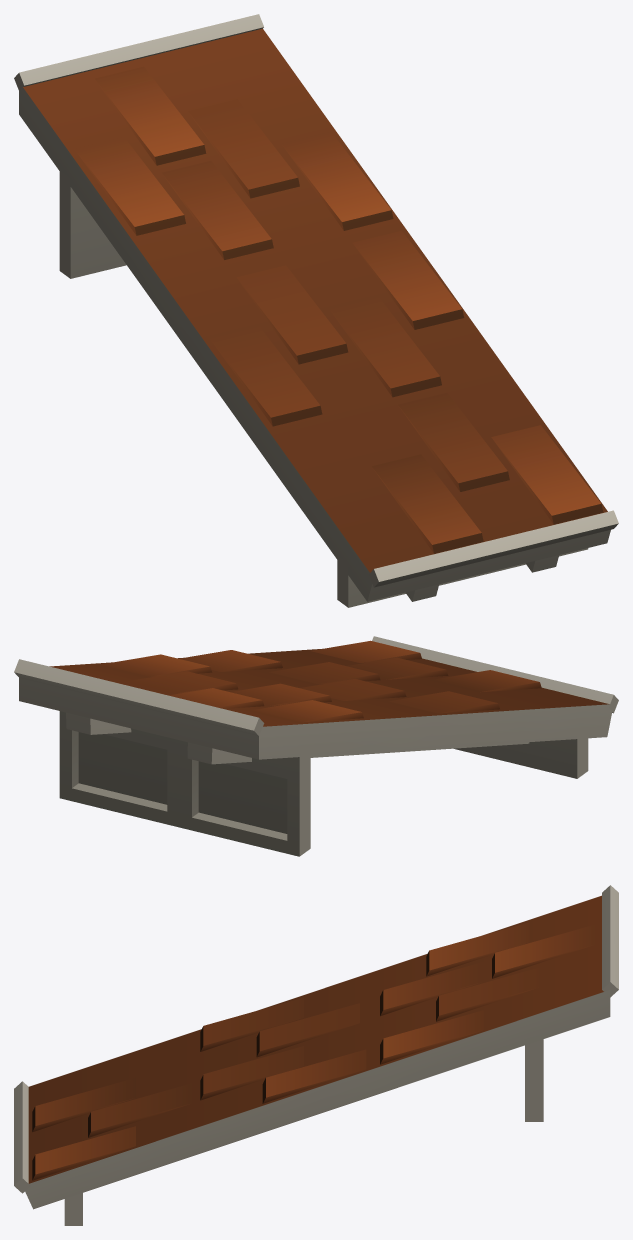
The model's file is TSP_House_Roof_04C_2.fbx.
3 renders of one model, top to bottom at view 1: azimuth 30°, elevation 25°; view 2: azimuth 150°, elevation 25°; view 3: azimuth 270°, elevation 25°, orthographic. The views are drawn at different scales.
Parts seen in each view (by area): view 1: TSP_House_Roof_04C_2; view 2: TSP_House_Roof_04C_2; view 3: TSP_House_Roof_04C_2.
Boxes of the visible parts, box(x1,y1,x2,y2) form: TSP_House_Roof_04C_2: box(14, 14, 618, 607); TSP_House_Roof_04C_2: box(14, 636, 618, 856); TSP_House_Roof_04C_2: box(14, 885, 618, 1225).
Bounding box in the file's own units: 2 × 2.34 × 5.27.
